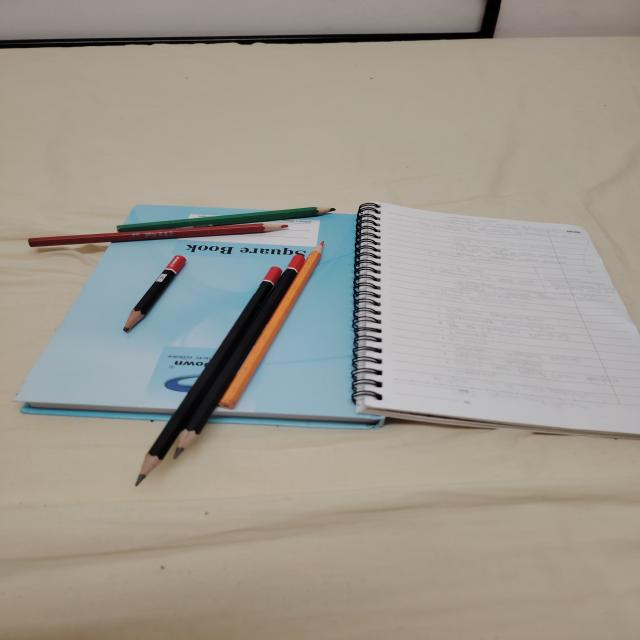pencil: (136, 267, 282, 486), (174, 254, 305, 458), (218, 242, 323, 409), (28, 223, 288, 247), (117, 207, 335, 232), (124, 256, 186, 332)
